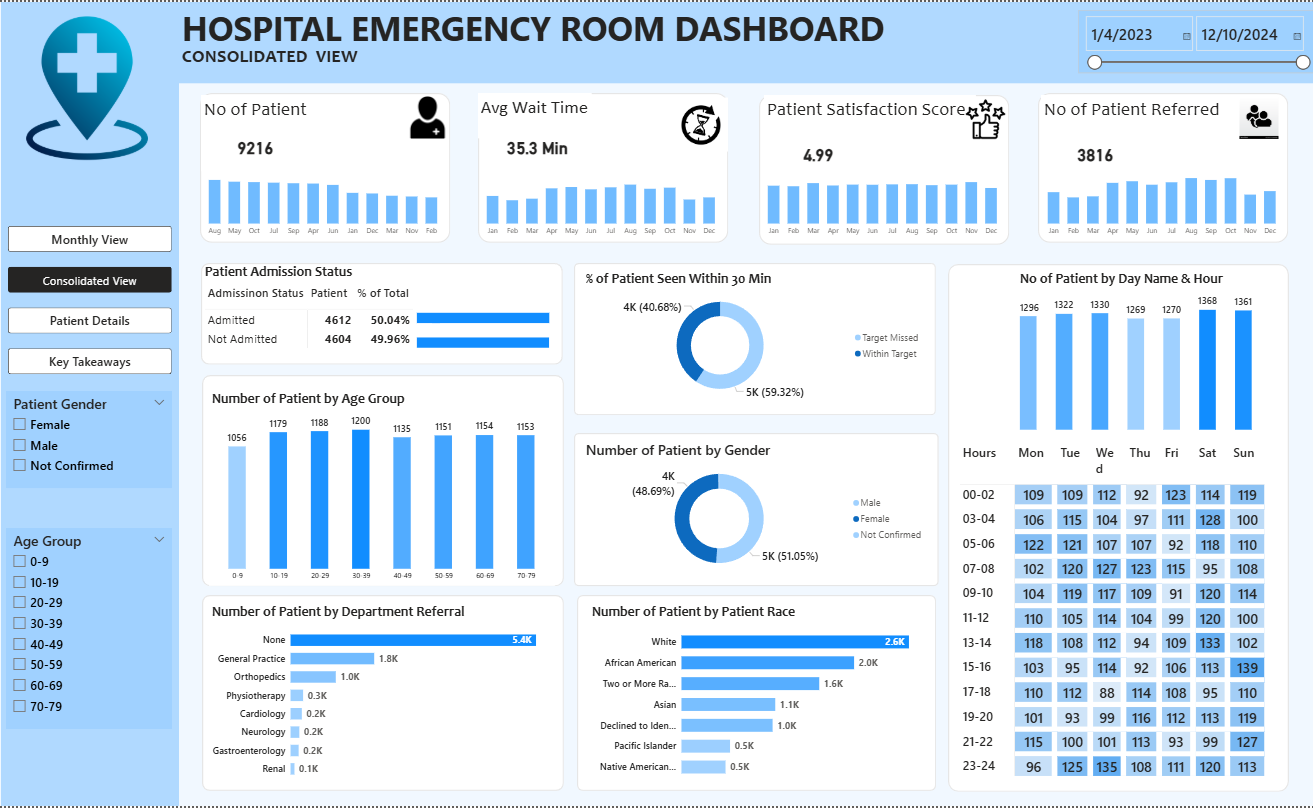

This screenshot's page, from the dashboard's own definition file:
{"tool":"powerbi","page":{"name":"Consolidated View","canvas":[2300,1400],"ordinal":1},"visuals":[{"type":"shape","box":[10.5,0,310,1399.9],"z":0},{"type":"shape","box":[357.1,159.3,435.8,260.8],"z":1000},{"type":"shape","box":[319.8,0,1980.2,141.6],"z":2000},{"type":"card","fields":{"Values":["Hospital ER_Data.Number of Patient"]},"box":[358.8,210,189,84],"z":3000},{"type":"textbox","box":[319.8,0,1256.6,92.6],"z":4000},{"type":"textbox","box":[320.4,69.7,337.8,62.7],"z":5000},{"type":"slicer","fields":{"Values":["Date Table.Date"]},"box":[1885.8,13.9,414.4,109.7],"z":6000},{"type":"columnChart","fields":{"Category":["Date Table.Month Name"],"Y":["Hospital ER_Data.Number of Patient"]},"box":[353.6,290.5,435.8,125],"z":7000},{"type":"shape","box":[1330.3,162.8,435.8,260.8],"z":8000},{"type":"textbox","box":[1339.1,161.9,369.2,76.6],"z":9000},{"type":"card","fields":{"Values":["Hospital ER_Data.Avg Satisfaction Score"]},"box":[1339,222.3,189,84],"z":10000},{"type":"shape","box":[1816.9,159.3,435.8,260.8],"z":11000},{"type":"textbox","box":[1821.4,161.9,339.6,76.6],"z":12000},{"type":"textbox","box":[358.7,161.9,198.5,76.6],"z":13000},{"type":"shape","box":[840.2,159.3,435.8,260.8],"z":14000},{"type":"columnChart","fields":{"Category":["Date Table.Month Name"],"Y":["Hospital ER_Data.No of Patient Reffered"]},"box":[1814,290,434.9,125],"z":15000},{"type":"card","fields":{"Values":["Hospital ER_Data.Avg Wait Time"]},"box":[848.9,210,189,84],"z":16000},{"type":"columnChart","fields":{"Y":["Hospital ER_Data.Avg Satisfaction Score"],"Category":["Date Table.Month Name"]},"box":[1326.9,290.8,437.1,125],"z":17000},{"type":"card","fields":{"Values":["Hospital ER_Data.No of Patient Reffered"]},"box":[1822.1,222.3,189,84],"z":18000},{"type":"shape","box":[358.8,455.1,630,177],"z":19000},{"type":"textbox","box":[840.2,159.3,197.8,78.8],"z":20000},{"type":"pivotTable","title":"Patient Admission Status","fields":{"Rows":["Hospital ER_Data.Admissinon Status"],"Values":["Hospital ER_Data.Number of Patient1","Hospital ER_Data.Number of Patient"]},"box":[360.4,454.5,630.3,177.6],"z":21000},{"type":"barChart","fields":{"Category":["Hospital ER_Data.Admissinon Status"],"Y":["Hospital ER_Data.Number of Patient"]},"box":[729.6,506.7,310,125.4],"z":22000},{"type":"shape","box":[360.4,649.5,630.3,368],"z":23000},{"type":"clusteredColumnChart","fields":{"Category":["Hospital ER_Data.Age Group"],"Y":["Hospital ER_Data.Number of Patient"]},"box":[372.6,675.6,602.5,341.3],"z":24000},{"type":"shape","box":[360.3,1033.3,630.2,341.3],"z":25000},{"type":"clusteredBarChart","fields":{"Category":["Hospital ER_Data.Department Referral"],"Y":["Hospital ER_Data.Number of Patient"]},"box":[373,1046,603.2,317.5],"z":26000},{"type":"shape","box":[1007.9,454,630.2,265.1],"z":27000},{"type":"donutChart","title":"%  of Patient  Seen Within 30 Min","fields":{"Category":["Hospital ER_Data.Wait_Time Status"],"Y":["Hospital ER_Data.Number of Patient"]},"box":[1023.8,466.7,598.4,233.3],"z":28000},{"type":"shape","box":[1007.9,750.8,634.9,266.7],"z":29000},{"type":"donutChart","title":"Number of Patient by Gender","fields":{"Category":["Hospital ER_Data.Patient Gender"],"Y":["Hospital ER_Data.Number of Patient"]},"box":[1023.8,763.5,603.2,241.3],"z":30000},{"type":"shape","box":[1012.7,1033.3,625.4,341.3],"z":31000},{"type":"clusteredBarChart","fields":{"Y":["Hospital ER_Data.Number of Patient"],"Category":["Hospital ER_Data.Patient Race"]},"box":[1034.9,1046,592.1,317.5],"z":32000},{"type":"shape","box":[1660.3,455.6,593.7,919],"z":33000},{"type":"pivotTable","fields":{"Rows":["Hospital ER_Data.Waittime Interval"],"Columns":["Date Table.Day Name"],"Values":["Hospital ER_Data.Number of Patient"]},"box":[1674.6,763.5,565.1,600],"z":34000},{"type":"columnChart","title":"No of Patient by Day Name & Hour","fields":{"Category":["Date Table.Day Name"],"Y":["Hospital ER_Data.Number of Patient"]},"box":[1779.4,466.7,415.9,284.1],"z":35000},{"type":"image","box":[34.8,10.4,250.7,278.6],"z":36000},{"type":"image","box":[698.3,123.6,109.7,155],"z":37000},{"type":"image","box":[1182.3,165.4,94,95.8],"z":38000},{"type":"image","box":[1683.8,168.9,81.8,69.7],"z":39000},{"type":"image","box":[2160.9,165.4,80.1,73.1],"z":40000},{"type":"columnChart","fields":{"Category":["Date Table.Month Name"],"Y":["Sum(Hospital ER_Data.Patient Waittime)"]},"box":[837.6,290.8,435.3,125],"z":41000},{"type":"pageNavigator","box":[22.6,390,285.6,259.5],"z":42000},{"type":"slicer","fields":{"Values":["Hospital ER_Data.Age Group"]},"box":[19.2,915.9,289.1,350],"z":43000},{"type":"slicer","fields":{"Values":["Hospital ER_Data.Patient Gender"]},"box":[19.2,677.4,289.1,168.9],"z":44000}]}

Visuals, with their boxes in screenshot pixels (x1, y1, x2, y2), scaled from the page's 2300x1400 canvas onto the 1313x808 screenshot:
shape: 6/0/183/807
shape: 204/92/453/242
shape: 183/0/1312/82
card - Hospital ER_Data.Number of Patient: 205/121/313/170
textbox: 183/0/900/53
textbox: 183/40/376/76
slicer - Date Table.Date: 1077/8/1312/71
columnChart - Date Table.Month Name x Hospital ER_Data.Number of Patient: 202/168/451/240
shape: 759/94/1008/244
textbox: 764/93/975/138
card - Hospital ER_Data.Avg Satisfaction Score: 764/128/872/177
shape: 1037/92/1286/242
textbox: 1040/93/1234/138
textbox: 205/93/318/138
shape: 480/92/728/242
columnChart - Date Table.Month Name x Hospital ER_Data.No of Patient Reffered: 1036/167/1284/240
card - Hospital ER_Data.Avg Wait Time: 485/121/593/170
columnChart - Hospital ER_Data.Avg Satisfaction Score x Date Table.Month Name: 757/168/1007/240
card - Hospital ER_Data.No of Patient Reffered: 1040/128/1148/177
shape: 205/263/564/365
textbox: 480/92/593/137
"Patient Admission Status" pivotTable: 206/262/566/365
barChart - Hospital ER_Data.Admissinon Status x Hospital ER_Data.Number of Patient: 417/292/593/365
shape: 206/375/566/587
clusteredColumnChart - Hospital ER_Data.Age Group x Hospital ER_Data.Number of Patient: 213/390/557/587
shape: 206/596/565/793
clusteredBarChart - Hospital ER_Data.Department Referral x Hospital ER_Data.Number of Patient: 213/604/557/787
shape: 575/262/935/415
"%  of Patient  Seen Within 30 Min" donutChart: 584/269/926/404
shape: 575/433/938/587
"Number of Patient by Gender" donutChart: 584/441/929/580
shape: 578/596/935/793
clusteredBarChart - Hospital ER_Data.Number of Patient x Hospital ER_Data.Patient Race: 591/604/929/787
shape: 948/263/1287/793
pivotTable - Hospital ER_Data.Waittime Interval x Date Table.Day Name: 956/441/1279/787
"No of Patient by Day Name & Hour" columnChart: 1016/269/1253/433
image: 20/6/163/167
image: 399/71/461/161
image: 675/95/729/151
image: 961/97/1008/138
image: 1234/95/1279/138
columnChart - Date Table.Month Name x Sum(Hospital ER_Data.Patient Waittime): 478/168/727/240
pageNavigator: 13/225/176/375
slicer - Hospital ER_Data.Age Group: 11/529/176/731
slicer - Hospital ER_Data.Patient Gender: 11/391/176/488
